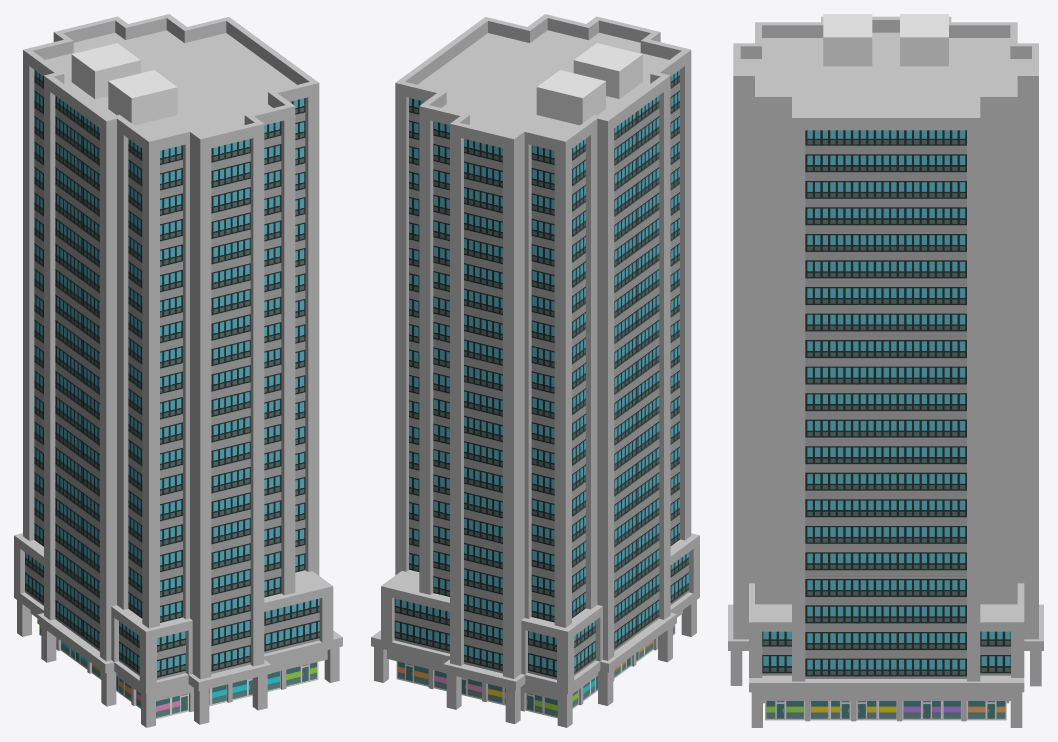
Rendered from Town_Bld-Lrg_BuildingC.FBX.
The picture shows the model from 3 angles, left to right: view 1: azimuth 30°, elevation 25°; view 2: azimuth 150°, elevation 25°; view 3: azimuth 270°, elevation 25°; orthographic projection. The views are drawn at different scales.
Parts seen in each view (by area): view 1: Town_Bld-Lrg_BuildingC; view 2: Town_Bld-Lrg_BuildingC; view 3: Town_Bld-Lrg_BuildingC.
Part boxes in pixels (bbox=[...]): Town_Bld-Lrg_BuildingC: bbox=[14, 14, 342, 727]; Town_Bld-Lrg_BuildingC: bbox=[371, 14, 699, 727]; Town_Bld-Lrg_BuildingC: bbox=[728, 14, 1043, 727].
Size of the model in its own units: 1534 by 4271 by 1955.
